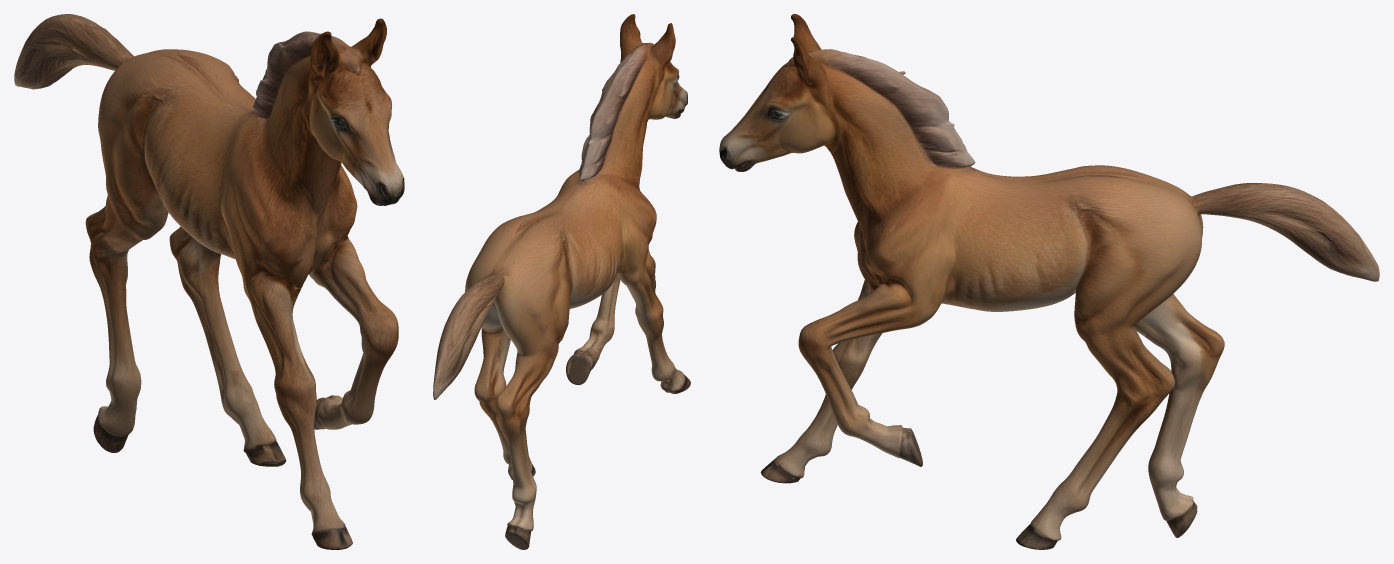
Rendered from foal-trotting.glb.
The picture shows the model from 3 angles, left to right: view 1: azimuth 30°, elevation 25°; view 2: azimuth 150°, elevation 25°; view 3: azimuth 270°, elevation 25°; orthographic projection. The views are drawn at different scales.
Parts seen in each view (by area): view 1: node_0; view 2: node_0; view 3: node_0.
Part boxes in pixels (left/top/right/bottom): node_0: left=14, top=14, right=404, bottom=549; node_0: left=433, top=14, right=690, bottom=549; node_0: left=719, top=14, right=1379, bottom=549.
Bounding box in the file's own units: 0.343 × 1.5 × 1.71.
Materials: 1 (1 with a texture image).
